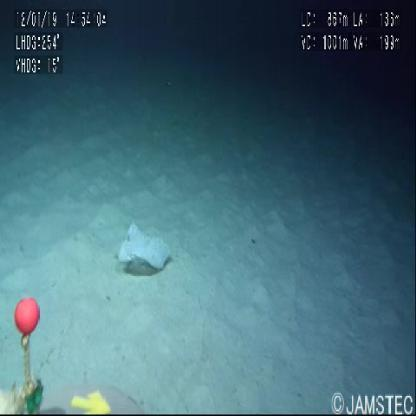Rác: (115, 223, 171, 278)
